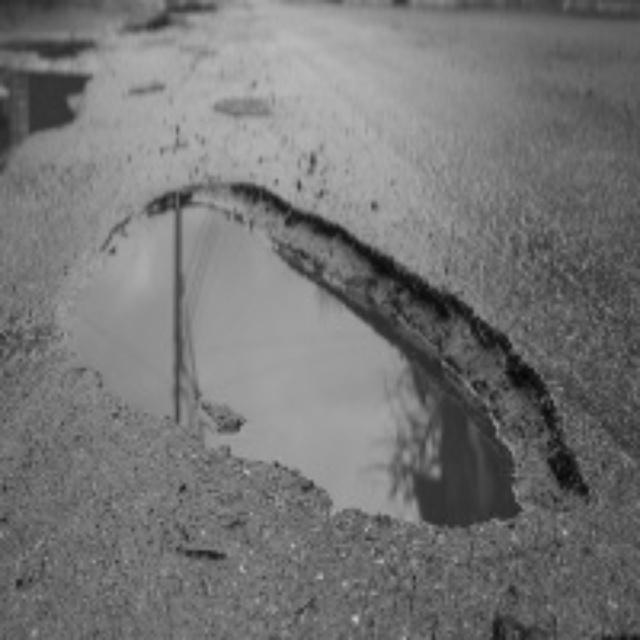Pothole: (121, 171, 530, 554)
